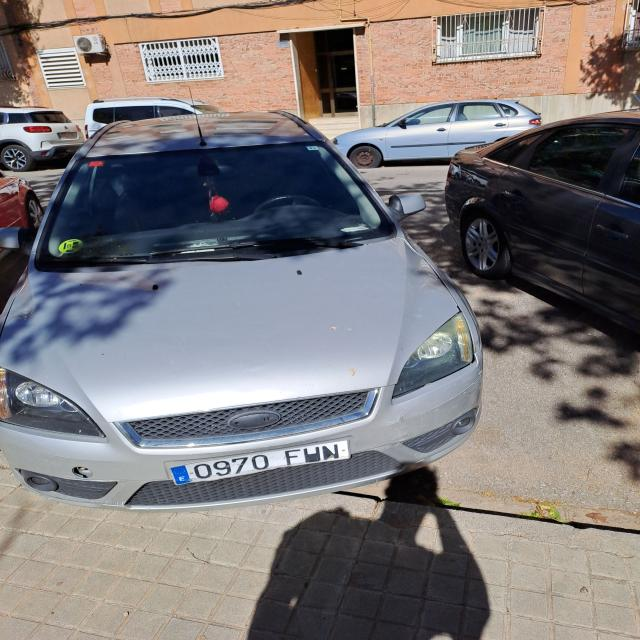license_plate-34Td: (171, 440, 351, 485)
